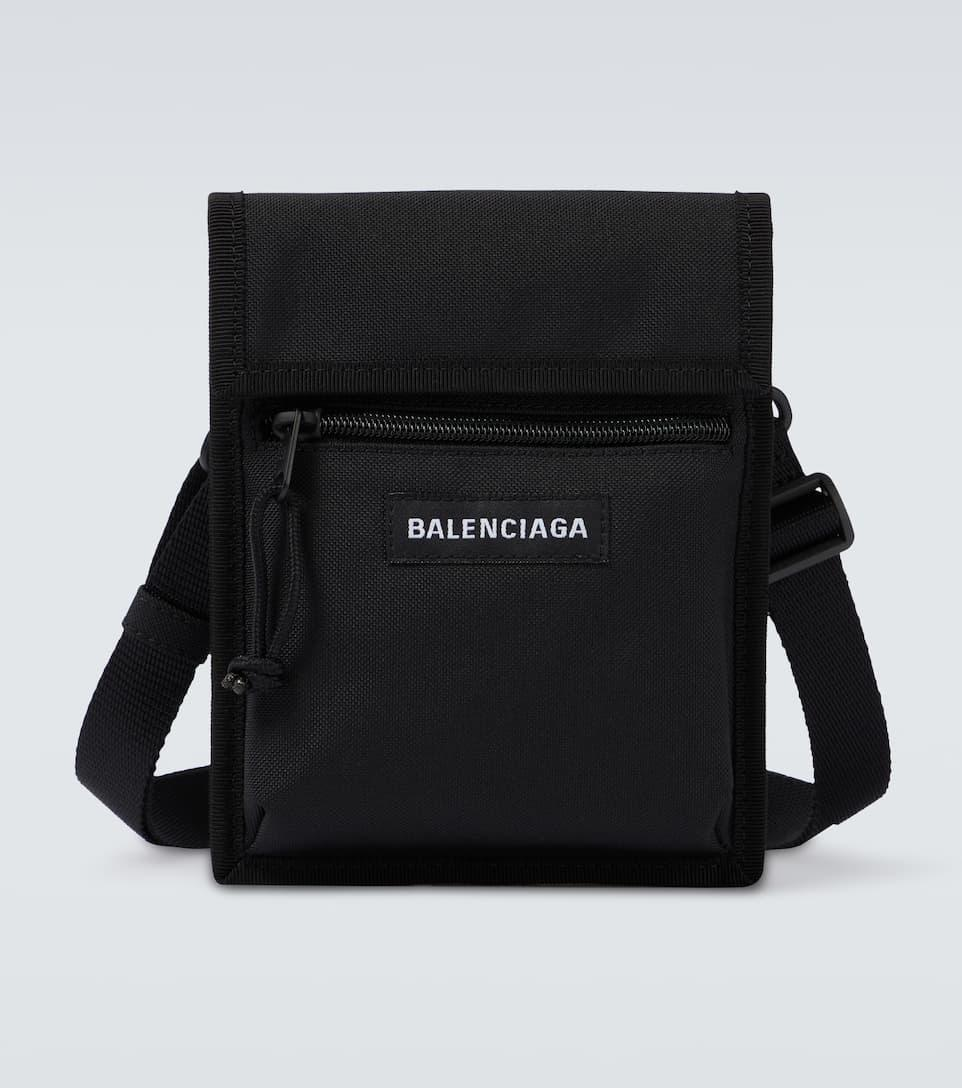BALENCIAGA: (408, 517, 588, 539)
